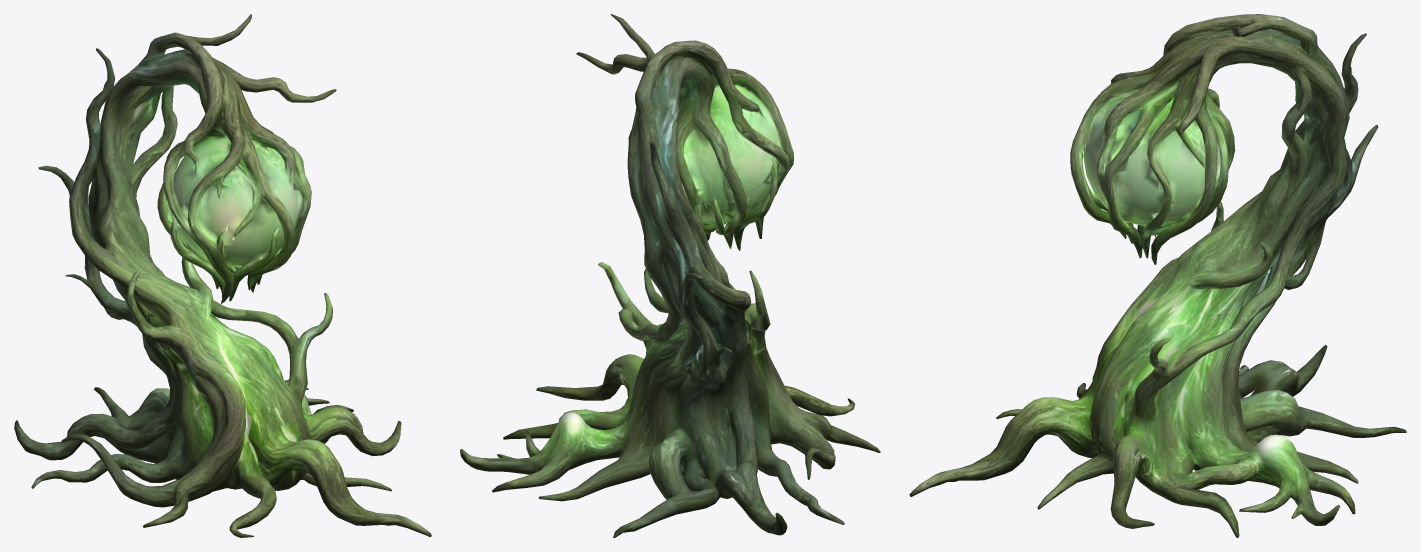
Rendered from fab_prop_0.glb.
3 renders of one model, left to right at view 1: azimuth 30°, elevation 25°; view 2: azimuth 150°, elevation 25°; view 3: azimuth 270°, elevation 25°, orthographic. The views are drawn at different scales.
Parts seen in each view (by area): view 1: mesh_0; view 2: mesh_0; view 3: mesh_0.
Part boxes in pixels (x1,y1,x2,y2): mesh_0: (14, 14, 431, 537); mesh_0: (460, 14, 880, 537); mesh_0: (909, 14, 1406, 537).
Bounding box in the file's own units: 0.6743 × 0.8295 × 0.815.
Materials: 1 (1 with a texture image).
